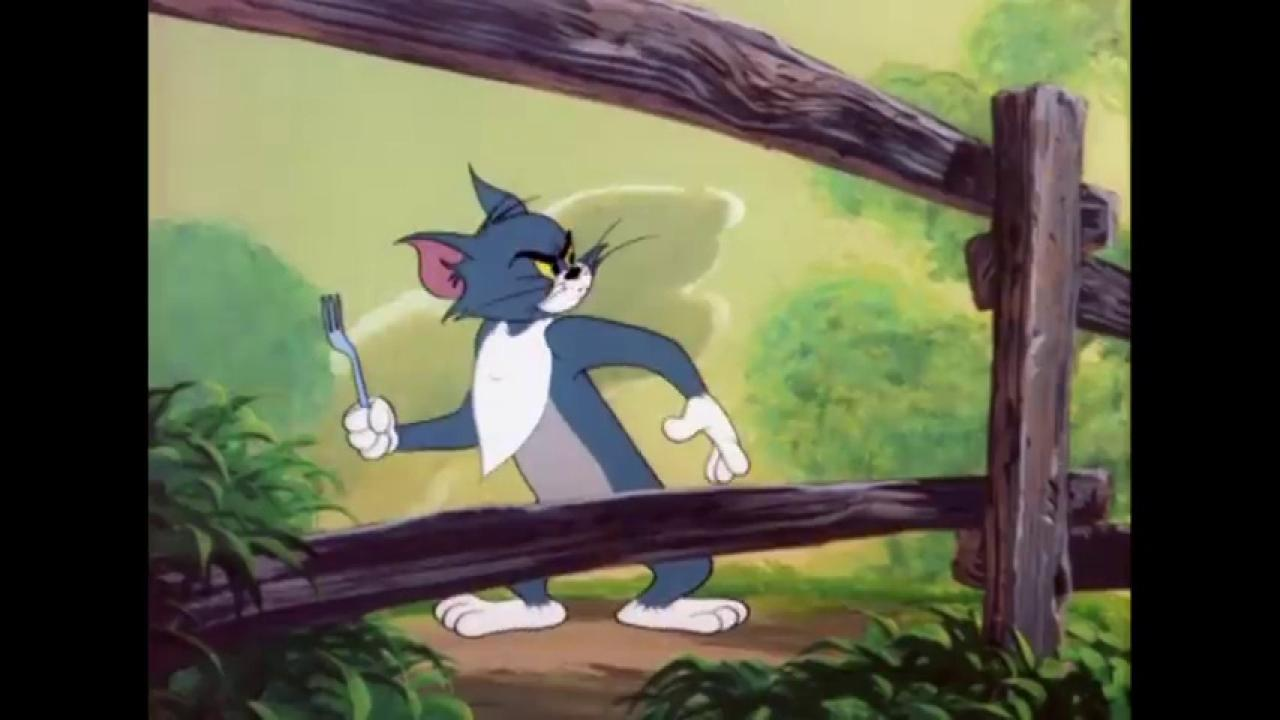Tom: (340, 160, 753, 637)
